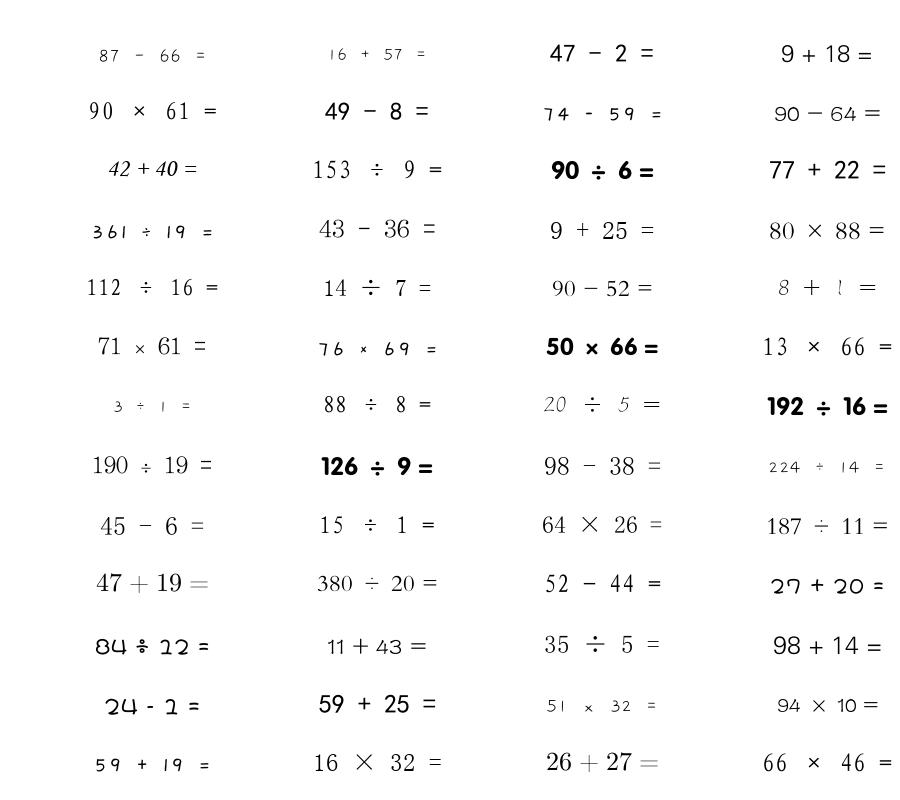MQ: (312, 160, 442, 179), (762, 337, 892, 356), (762, 753, 892, 772), (767, 396, 888, 416), (86, 278, 218, 296), (96, 573, 209, 594), (546, 752, 659, 773), (88, 102, 217, 120), (321, 456, 433, 476), (769, 160, 886, 179), (319, 219, 436, 238), (544, 574, 661, 593), (319, 694, 436, 713), (313, 754, 442, 771), (92, 456, 212, 474), (546, 337, 658, 356), (544, 457, 661, 475), (766, 518, 889, 535), (769, 222, 885, 240), (319, 516, 435, 534), (544, 635, 660, 653), (773, 636, 882, 655), (551, 160, 654, 180), (317, 575, 438, 592), (542, 516, 662, 533), (95, 638, 210, 655), (98, 337, 206, 355), (323, 395, 431, 413), (543, 396, 661, 412), (550, 44, 654, 62), (325, 102, 429, 120), (100, 517, 204, 535), (323, 279, 431, 296), (770, 578, 884, 594), (550, 222, 654, 239), (91, 225, 214, 239), (552, 280, 653, 297), (774, 106, 881, 122), (327, 638, 427, 655), (542, 107, 663, 121), (317, 342, 438, 356), (778, 279, 877, 296), (781, 45, 873, 63), (93, 758, 211, 772), (104, 698, 200, 715), (546, 699, 658, 713), (768, 461, 886, 474), (98, 49, 207, 63), (777, 698, 878, 713), (107, 161, 197, 177), (327, 48, 427, 61), (113, 401, 192, 413)
